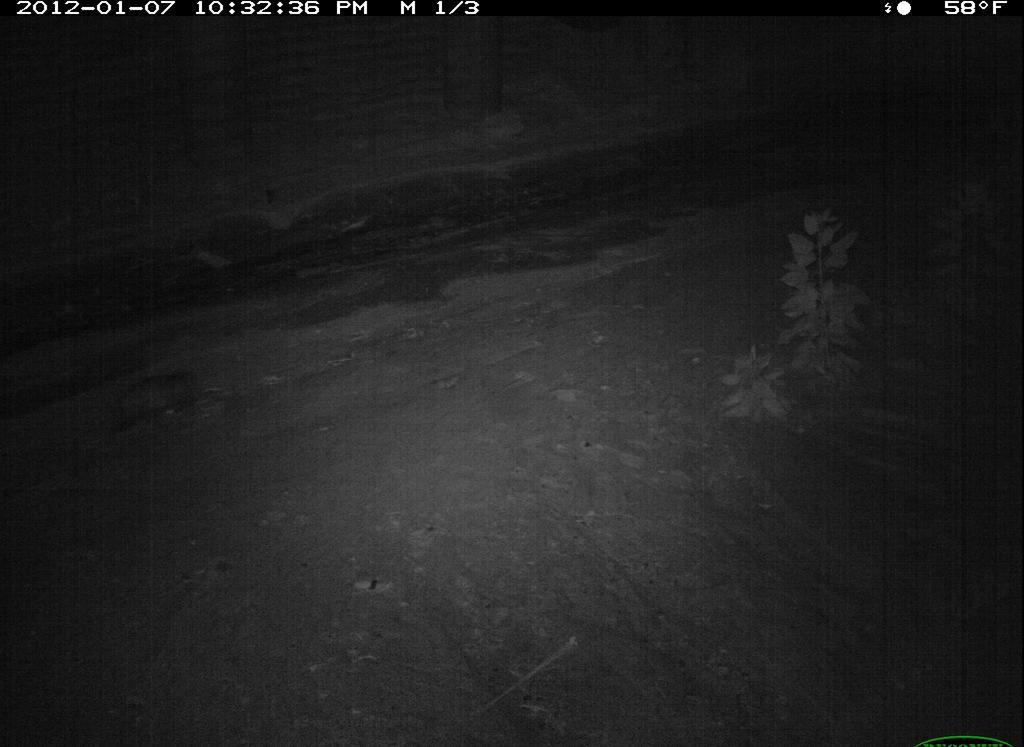opossum: (77, 360, 221, 450)
